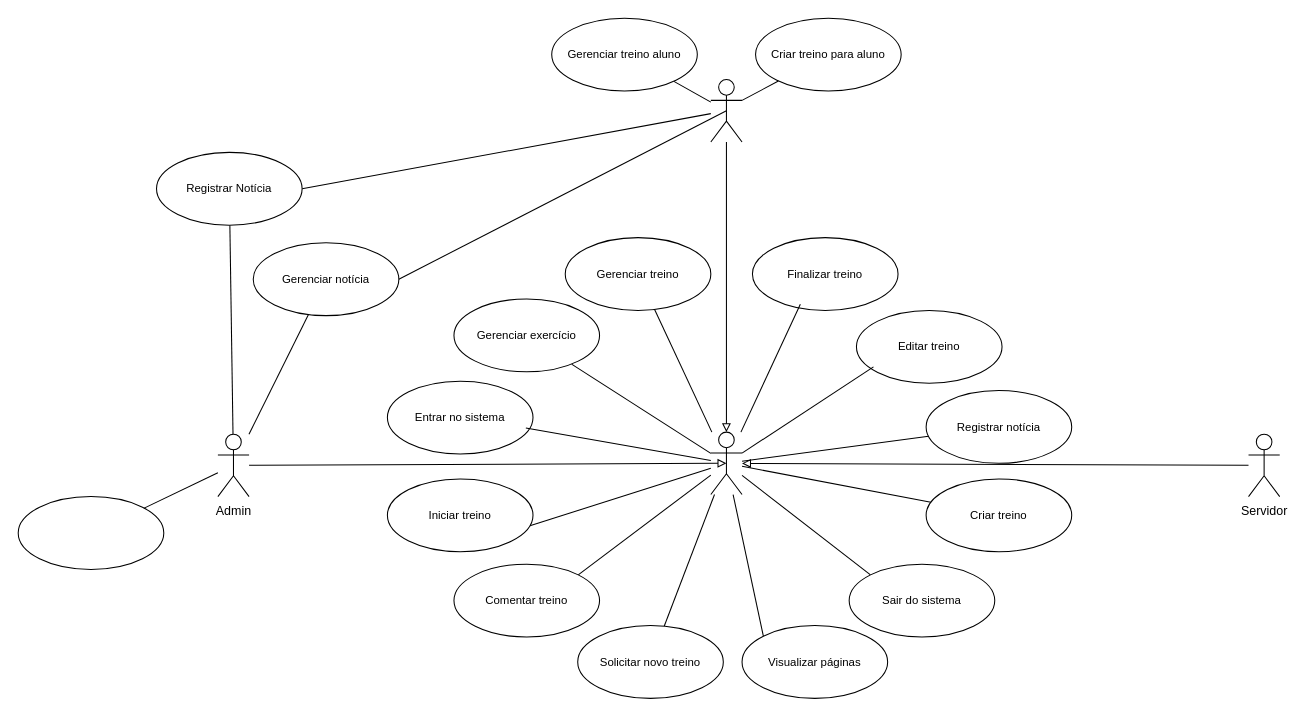
Image size: 1305x717. Some labels were removed from this diagram. The centre of each missing label's shape, as x and y in pixels:
"Gerenciar Professores" goes at point 90,532.
"Professor" goes at point 726,110.
"Usuário" goes at point 726,463.
